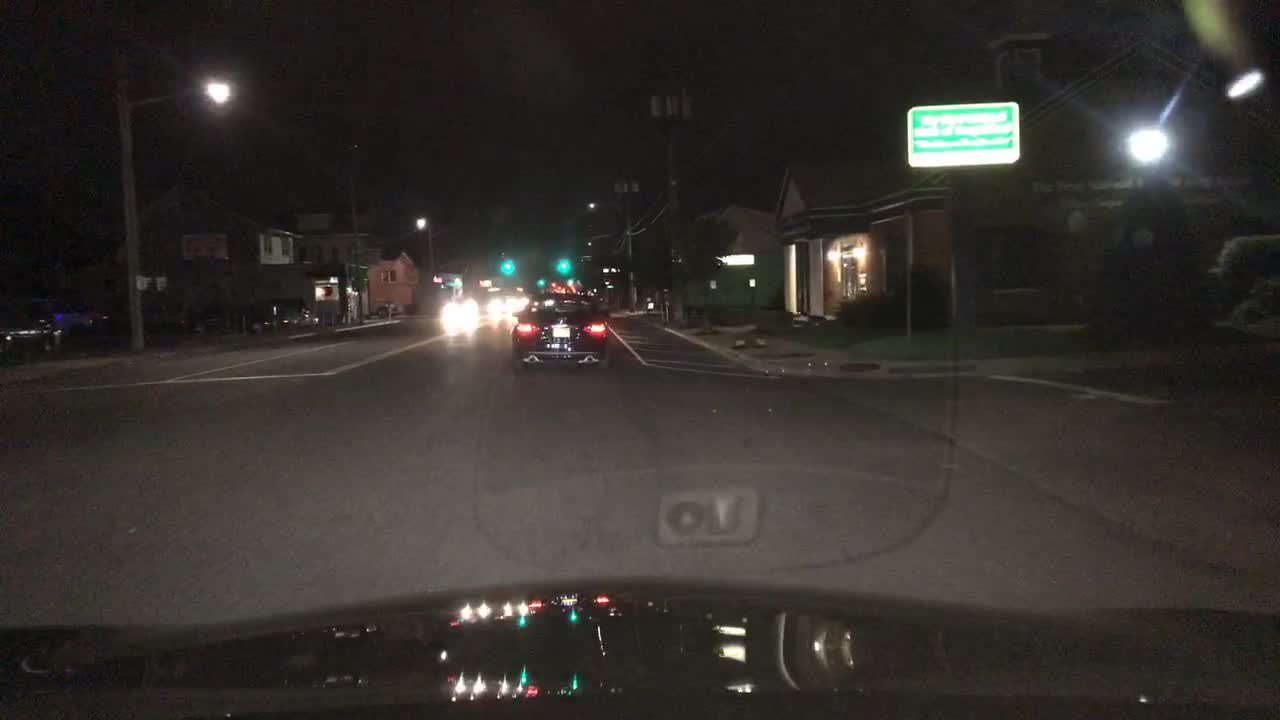car: (511, 289, 611, 374), (4, 295, 110, 345), (1, 309, 55, 367), (246, 296, 313, 332), (173, 303, 235, 338), (439, 296, 477, 324), (486, 291, 515, 317), (374, 302, 415, 318), (507, 289, 532, 312)
traffic light: (554, 257, 572, 272), (502, 261, 513, 275)
traffic sign: (909, 100, 1019, 170)
